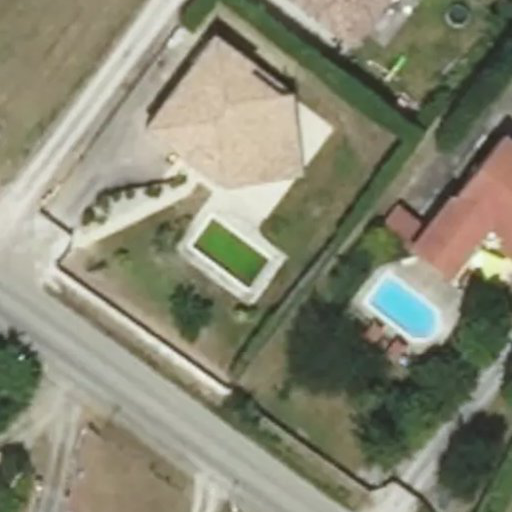pool: (193, 217, 268, 290), (365, 272, 440, 340)
